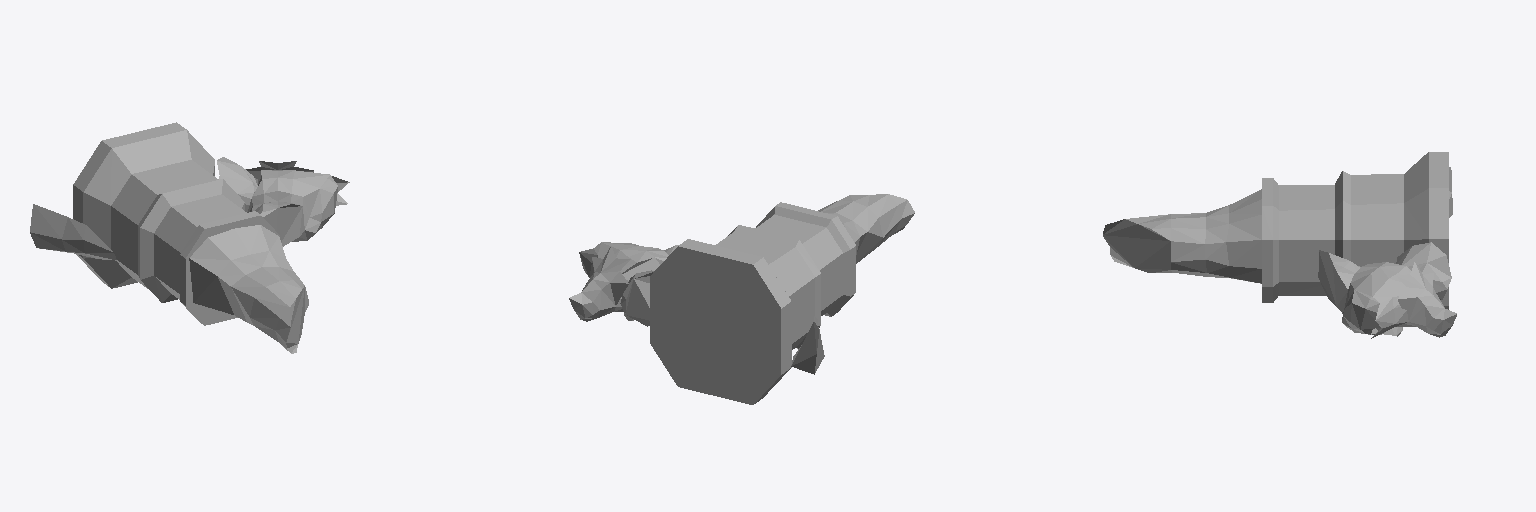
File: statue-Monk-03.obj
The picture shows the model from 3 angles: view 1: azimuth 30°, elevation 25°; view 2: azimuth 150°, elevation 25°; view 3: azimuth 270°, elevation 25°; orthographic projection.
Visible parts, largest first — view 1: (null); view 2: (null); view 3: (null).
Part boxes in pixels (x1,y1,x2,y2): (null): (30, 122, 349, 353); (null): (569, 194, 914, 404); (null): (1103, 152, 1456, 338).
Size of the model in its own units: 5.46 by 2.59 by 5.93.